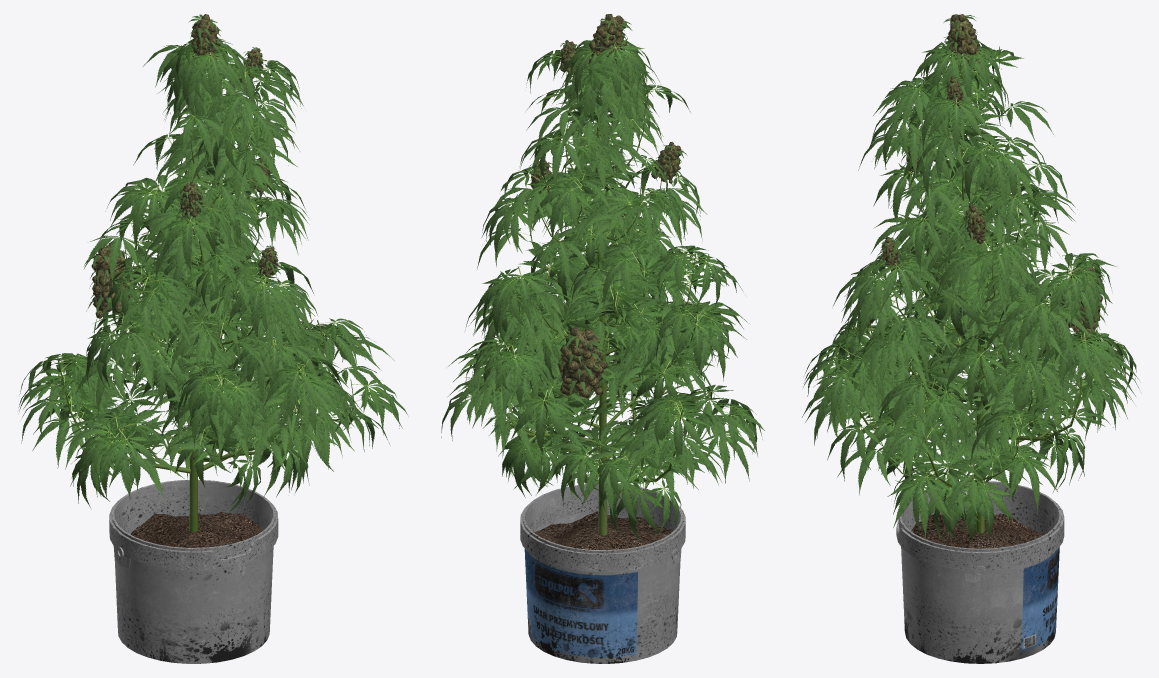
The model's file is cannabis_sativa_plant.glb.
3 views of the same model, side by side, from view 1: azimuth 30°, elevation 25°; view 2: azimuth 150°, elevation 25°; view 3: azimuth 270°, elevation 25° (orthographic).
Parts seen in each view (by area): view 1: Object_3, Object_2; view 2: Object_3, Object_2; view 3: Object_3, Object_2.
Boxes of the visible parts, x1,y1,x2,y2 form: Object_3: [18, 14, 407, 532]; Object_2: [109, 479, 278, 663]; Object_3: [441, 14, 764, 542]; Object_2: [520, 484, 685, 663]; Object_3: [802, 14, 1139, 544]; Object_2: [896, 481, 1064, 663].
Bounding box in the file's own units: 0.8038 × 1.54 × 0.7813.
2 materials, 2 textured.
